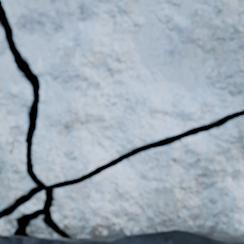brick: (2, 0, 243, 183), (52, 117, 243, 243), (0, 27, 33, 209), (0, 192, 43, 235), (28, 217, 64, 239)
crack: (0, 0, 243, 241)
